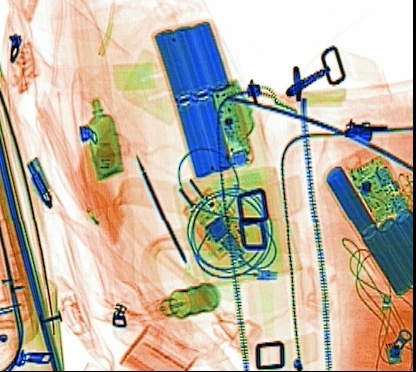powerbank: (150, 15, 256, 181), (324, 141, 412, 298)
